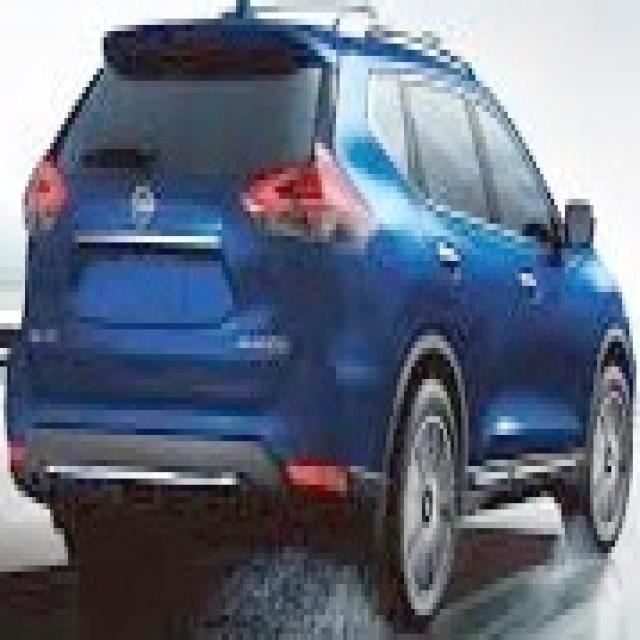blue: (10, 2, 634, 620)
